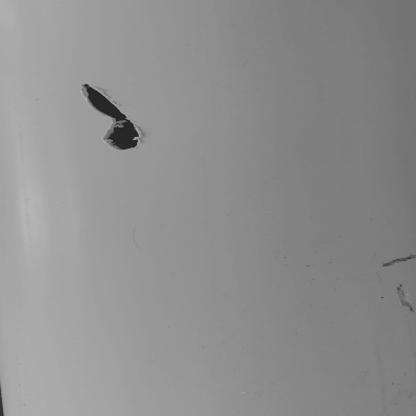fengxi: (395, 284, 414, 316), (381, 255, 416, 269)
kongdong: (76, 84, 144, 152)
